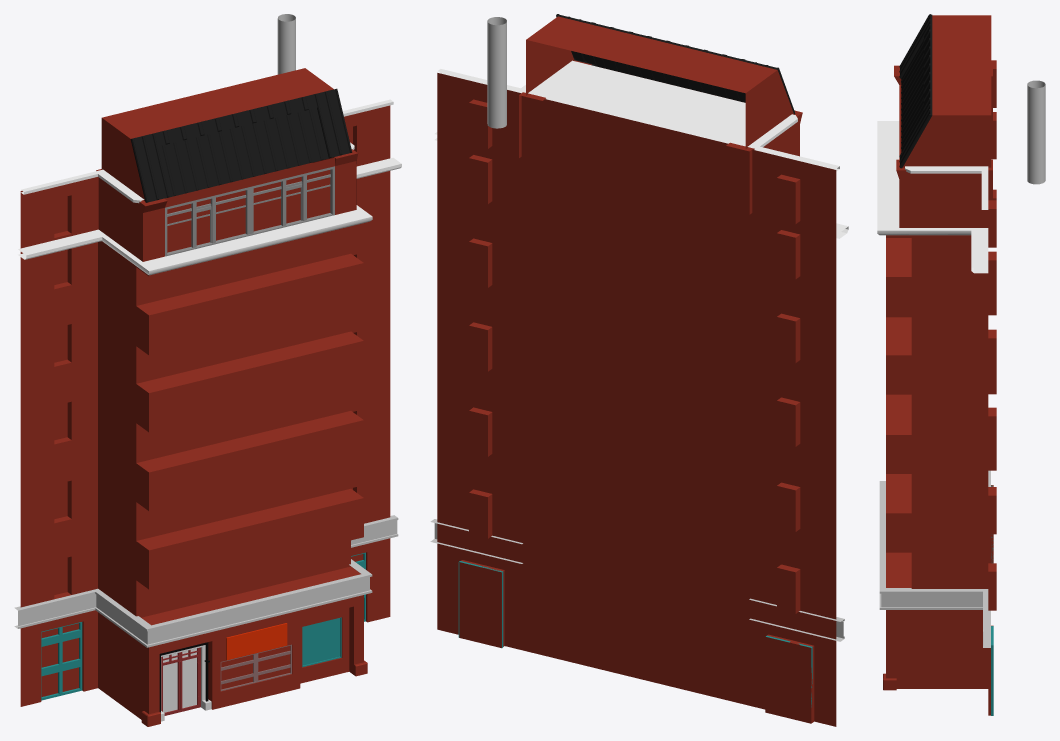
File: bat_low.FBX
3 views of the same model, side by side, from view 1: azimuth 30°, elevation 25°; view 2: azimuth 150°, elevation 25°; view 3: azimuth 270°, elevation 25° (orthographic). The views are drawn at different scales.
Visible parts, largest first — view 1: Box014_low, bat_ar_low, bat_base_01_low, bat_haut_low, maintient_01_low, toit_02_low, bat_haut_haut_low, bat_base_02_low, toit_low, rembard_low, fenetre_duhaut_low, fenetre_bas_02_low (×2) (+6 smaller); view 2: bat_ar_low, bat_base_02_low, bat_haut_haut_low, rembard_02_low, chemine_low, toit_02_low, bat_haut_low, toit_low, maintient_01_low; view 3: Box014_low, bat_haut_haut_low, bat_base_01_low, bat_haut_low, rembard_low, bat_ar_low, maintient_01_low, chemine_low, toit_low, toit_02_low, rembard_02_low, bat_base_02_low.
Part boxes in pixels (<box>): Box014_low: <box>98,223,363,625</box>; bat_ar_low: <box>20,105,390,607</box>; bat_base_01_low: <box>98,595,367,726</box>; bat_haut_low: <box>96,149,358,261</box>; maintient_01_low: <box>14,515,398,647</box>; toit_02_low: <box>157,108,329,197</box>; bat_haut_haut_low: <box>101,68,333,201</box>; bat_base_02_low: <box>20,538,390,706</box>; toit_low: <box>130,88,352,202</box>; rembard_low: <box>18,157,401,275</box>; fenetre_duhaut_low: <box>165,166,334,256</box>; fenetre_bas_02_low (×2): <box>41,622,290,700</box>; bat_ar_low: <box>437,73,836,631</box>; bat_base_02_low: <box>437,535,836,726</box>; bat_haut_haut_low: <box>526,16,793,148</box>; rembard_02_low: <box>438,60,839,171</box>; chemine_low: <box>487,17,506,128</box>; toit_02_low: <box>592,56,745,102</box>; bat_haut_low: <box>519,60,802,214</box>; toit_low: <box>556,14,795,114</box>; maintient_01_low: <box>430,519,844,641</box>; Box014_low: <box>886,235,988,588</box>; bat_haut_haut_low: <box>903,15,991,167</box>; bat_base_01_low: <box>883,610,988,690</box>; bat_haut_low: <box>894,65,992,227</box>; rembard_low: <box>877,121,988,273</box>; bat_ar_low: <box>988,60,996,610</box>; maintient_01_low: <box>879,470,990,647</box>; chemine_low: <box>1027,80,1045,184</box>; toit_low: <box>899,14,932,168</box>; toit_02_low: <box>901,41,923,152</box>; rembard_02_low: <box>905,166,988,209</box>; bat_base_02_low: <box>988,485,993,715</box>.
Size of the model in its own units: 2159 by 3260 by 824.
